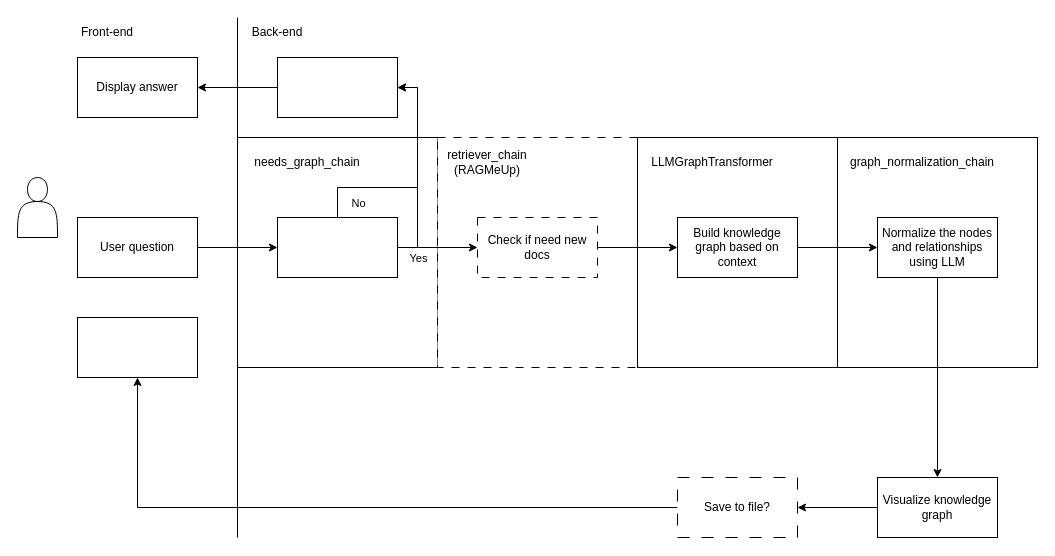
This 1055x556 diagram has some shape labels left out. The centre of each missing label's shape, as x and y in pixels:
Check if answer needs graph: the point at 337,247
Display knowledge graph: the point at 137,347
Normal functionality: the point at 337,87
